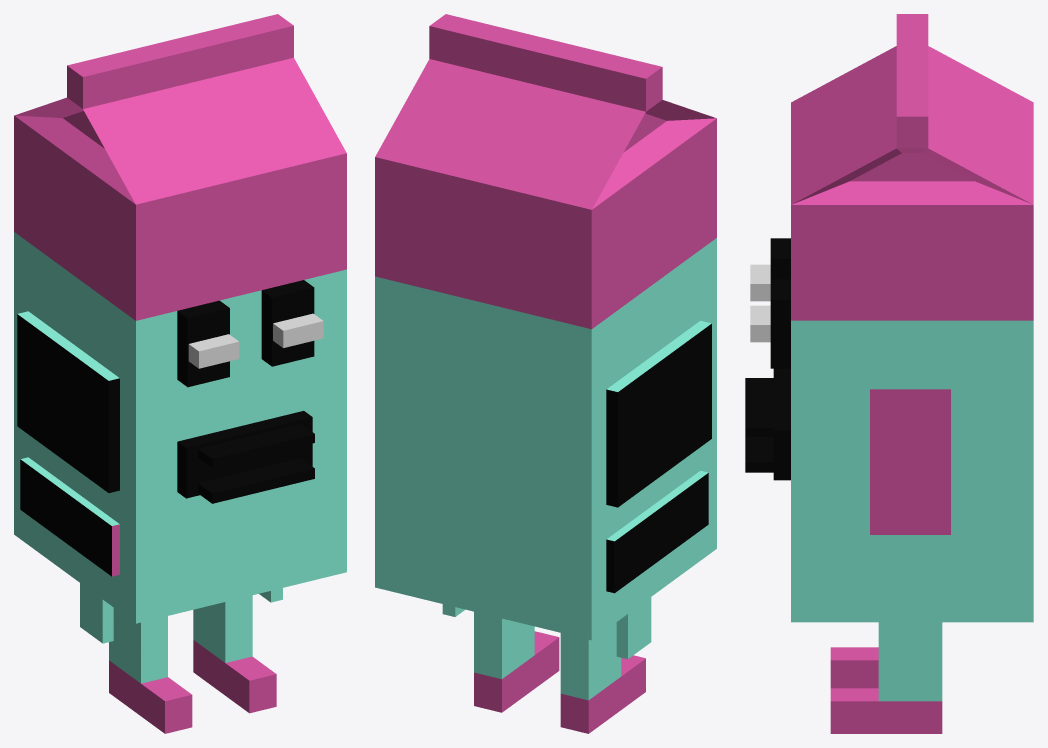
The model's file is milk.gltf.
3 renders of one model, left to right at view 1: azimuth 30°, elevation 25°; view 2: azimuth 150°, elevation 25°; view 3: azimuth 270°, elevation 25°, orthographic. The views are drawn at different scales.
Parts seen in each view (by area): view 1: Cube; view 2: Cube; view 3: Cube.
Part boxes in pixels (box(x1,y1,x2,y2)): Cube: box(14, 14, 346, 733); Cube: box(375, 14, 716, 733); Cube: box(745, 14, 1033, 733).
Bounding box in the file's own units: 2.11 × 5.84 × 2.38.
